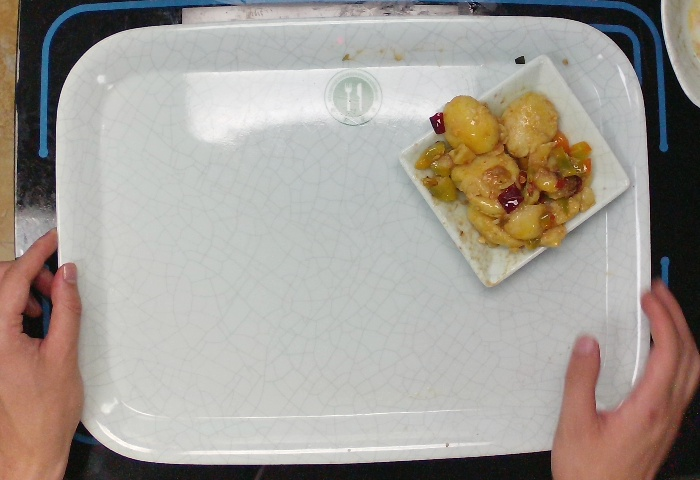WCQzf-Ru_Ci_Si_Fang_Die: (393, 49, 635, 291)
